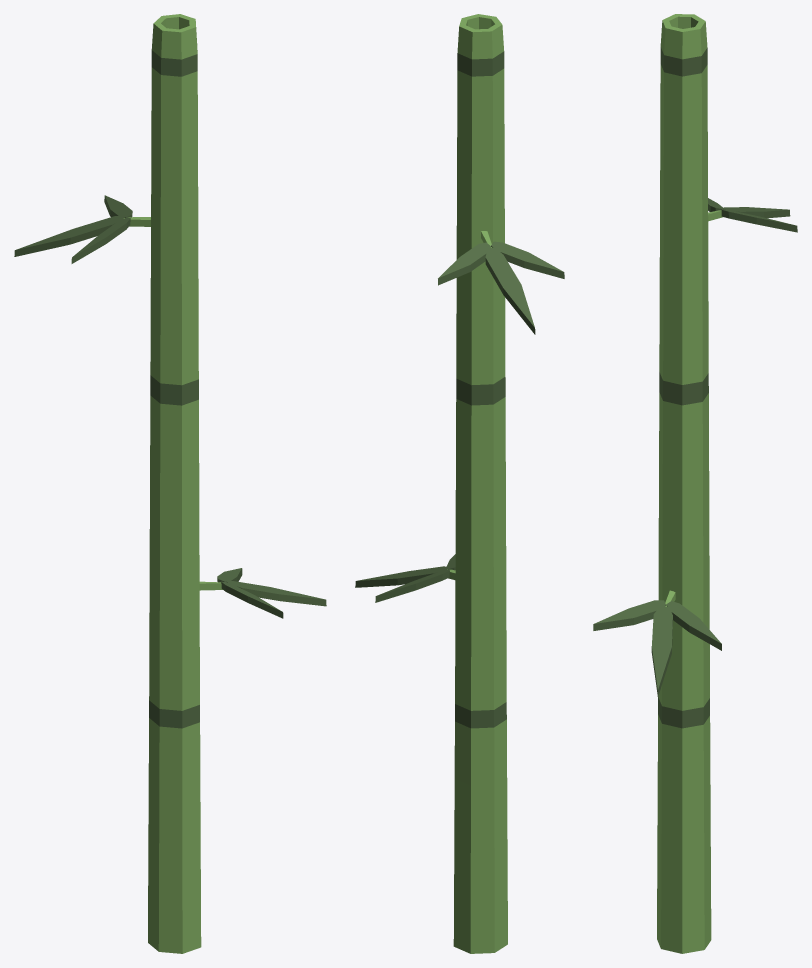
Rendered from Bamboo_2.glb.
The picture shows the model from 3 angles, left to right: view 1: azimuth 30°, elevation 25°; view 2: azimuth 150°, elevation 25°; view 3: azimuth 270°, elevation 25°; orthographic projection.
Visible parts, largest first — view 1: Bamboo_2; view 2: Bamboo_2; view 3: Bamboo_2.
Boxes of the visible parts, left/top/right/bottom form: Bamboo_2: left=14, top=14, right=326, bottom=953; Bamboo_2: left=355, top=14, right=564, bottom=953; Bamboo_2: left=593, top=14, right=797, bottom=953.
Size of the model in its own units: 0.2053 by 0.733 by 0.1475.
